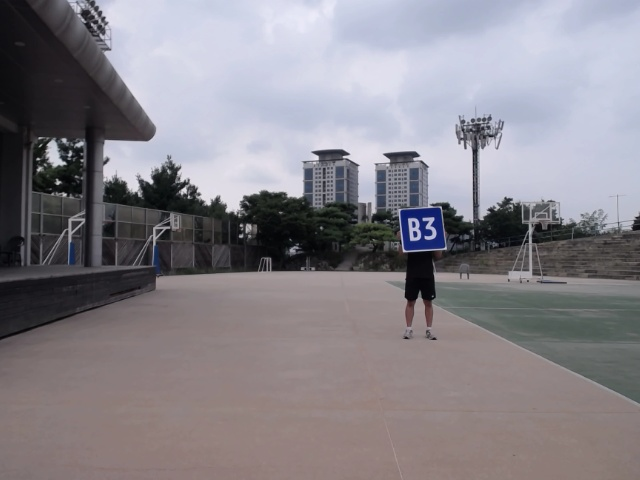delivery_b3: (398, 206, 450, 254)
